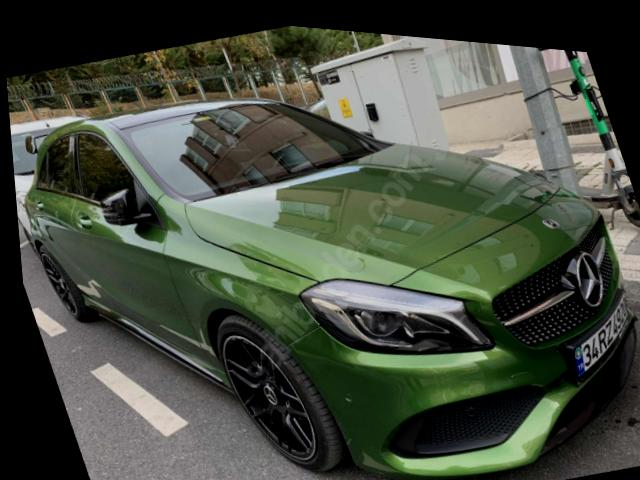plaka: (573, 298, 628, 377)
